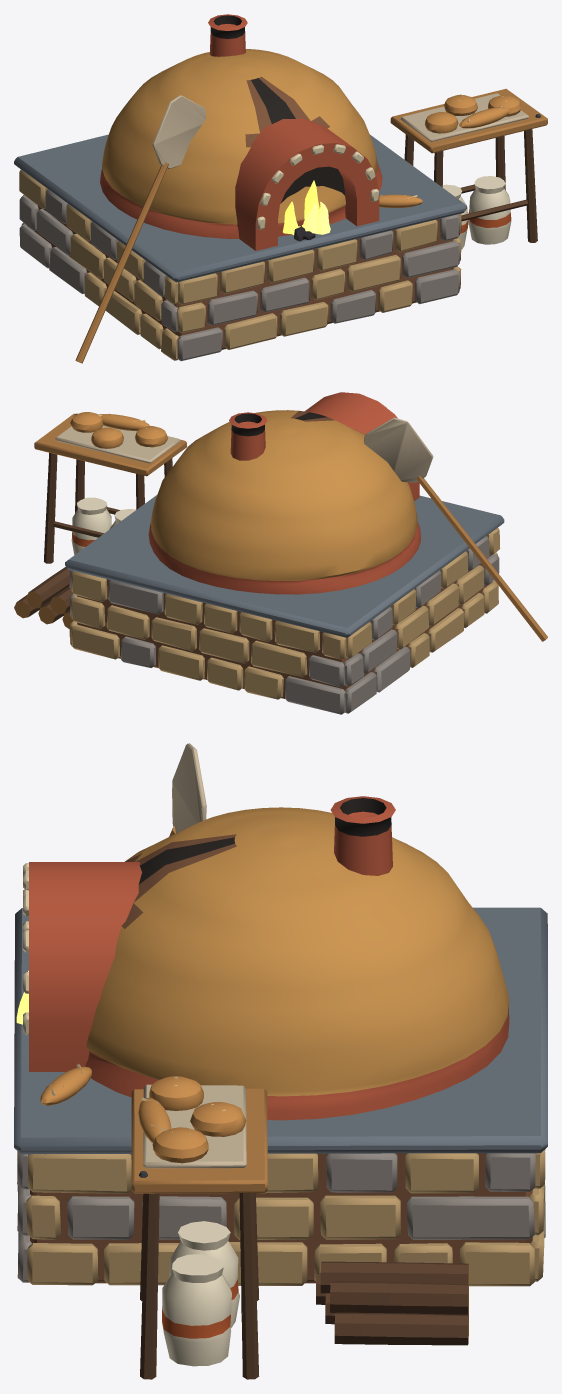
Rendered from deco_bread_oven.fbx.
The picture shows the model from 3 angles, top to bottom: view 1: azimuth 30°, elevation 25°; view 2: azimuth 150°, elevation 25°; view 3: azimuth 270°, elevation 25°; orthographic projection. The views are drawn at different scales.
Parts seen in each view (by area): view 1: BreadOven_Plinth, BreadOven_Dome, BreadOven_Board, BreadOven_Peel, BreadOven_Loaves, BreadOven_Glow; view 2: BreadOven_Plinth, BreadOven_Dome, BreadOven_Board, BreadOven_Peel, BreadOven_Loaves; view 3: BreadOven_Dome, BreadOven_Plinth, BreadOven_Board, BreadOven_Loaves, BreadOven_Peel.
Boxes of the visible parts, <box> form: BreadOven_Plinth: <box>14,134,466,361</box>; BreadOven_Dome: <box>100,14,382,250</box>; BreadOven_Board: <box>390,88,547,249</box>; BreadOven_Peel: <box>75,95,206,363</box>; BreadOven_Loaves: <box>379,94,521,207</box>; BreadOven_Glow: <box>282,180,330,241</box>; BreadOven_Plinth: <box>14,495,504,714</box>; BreadOven_Dome: <box>148,392,420,594</box>; BreadOven_Board: <box>34,413,186,563</box>; BreadOven_Peel: <box>364,417,547,641</box>; BreadOven_Loaves: <box>70,412,167,448</box>; BreadOven_Dome: <box>23,796,509,1120</box>; BreadOven_Plinth: <box>14,907,547,1345</box>; BreadOven_Board: <box>131,1084,267,1379</box>; BreadOven_Loaves: <box>40,1063,246,1163</box>; BreadOven_Peel: <box>169,743,206,836</box>.
Size of the model in its own units: 389 by 178 by 228.
